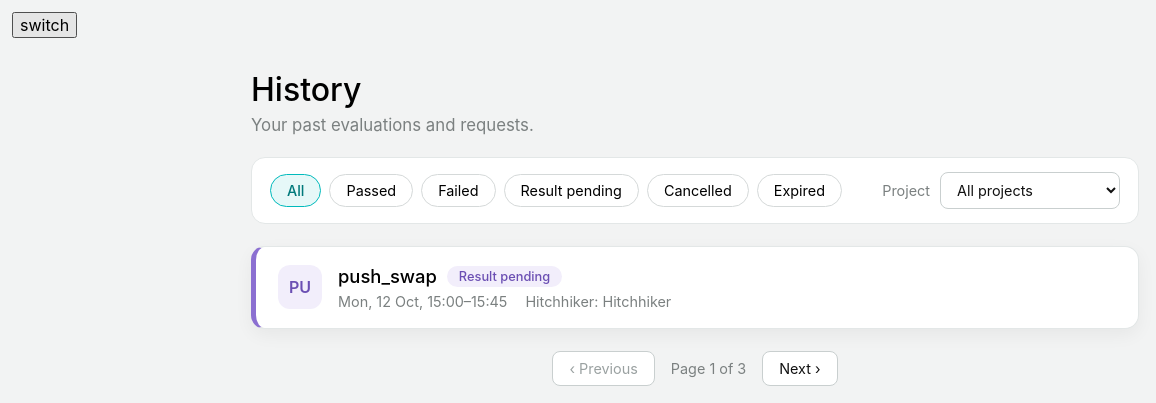
Test case: HistoryPage › pages through the history
expect the text "Page 1 of 3" is shown: met, box [671,360,746,377]
expect the button "‹ Previous" is disabled: met, box [552,351,655,386]
Click the button "Next ›". click: (800, 368)
box: [762,351,838,386]
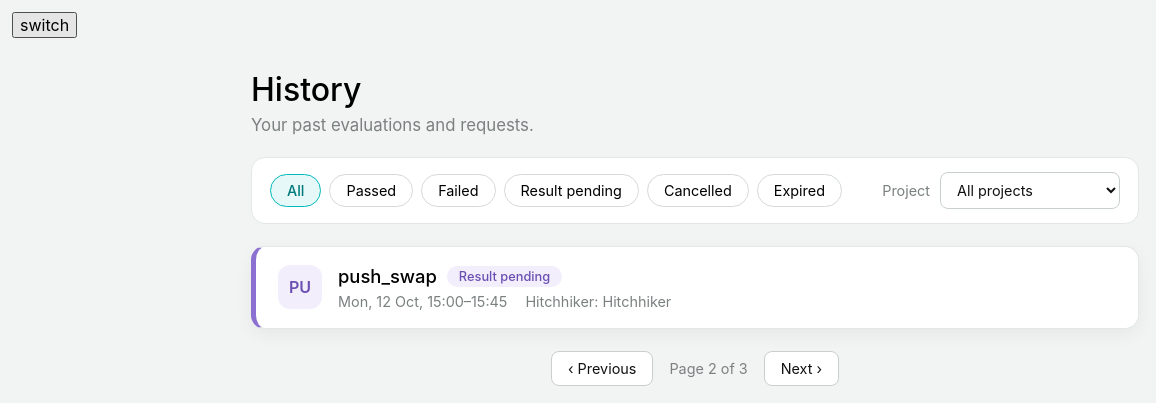
expect the text "Page 2 of 3" is shown: met, box [669,360,748,377]
